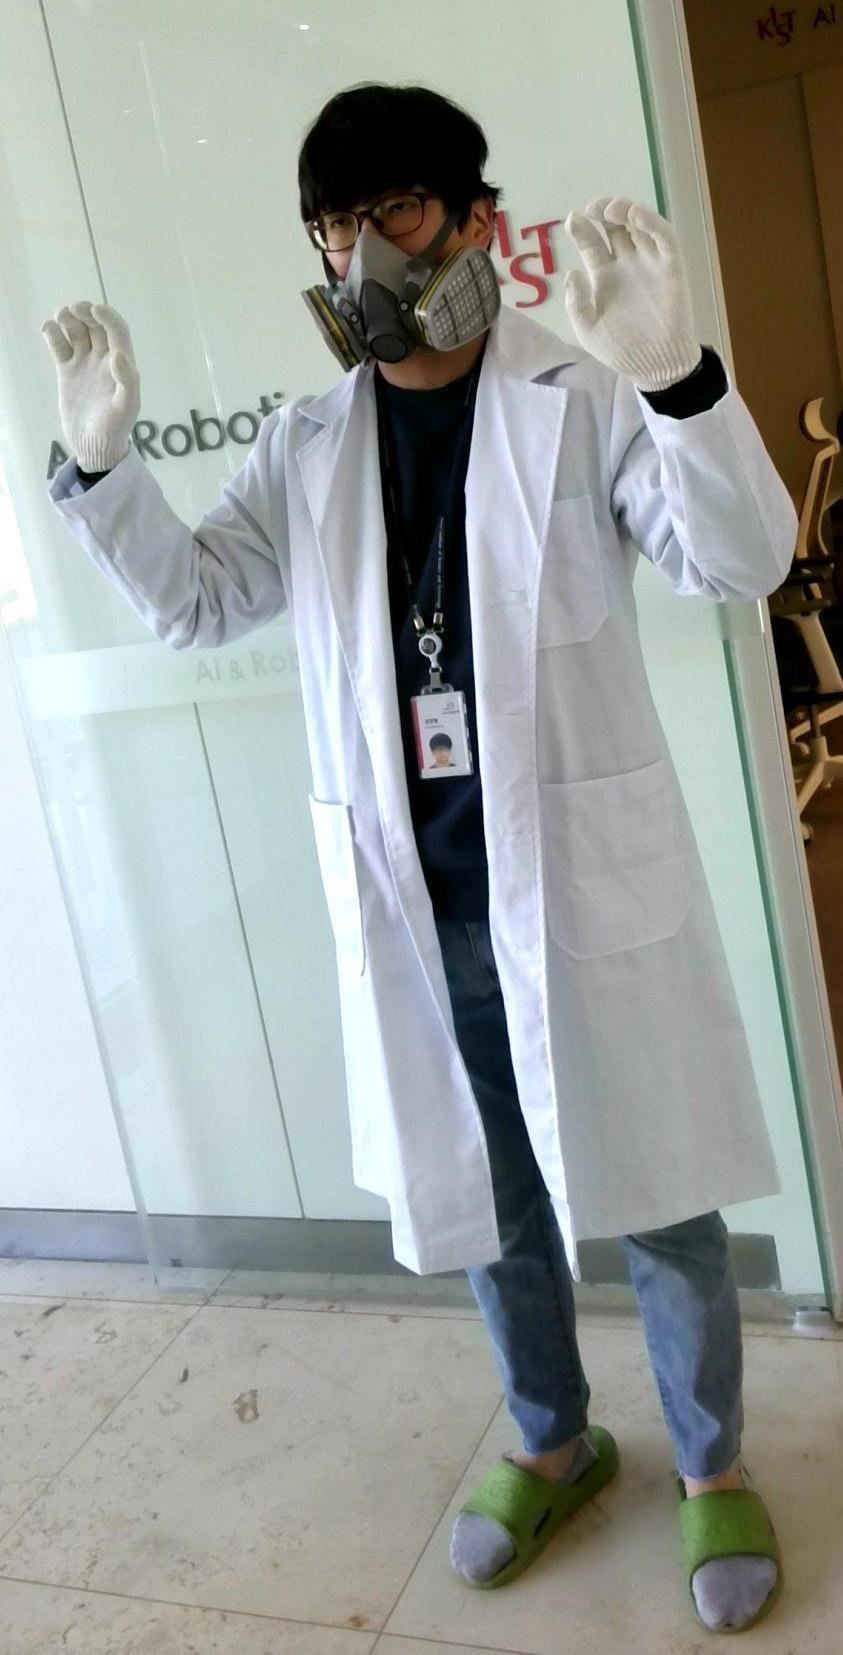lab_coat: (219, 384, 734, 1238)
